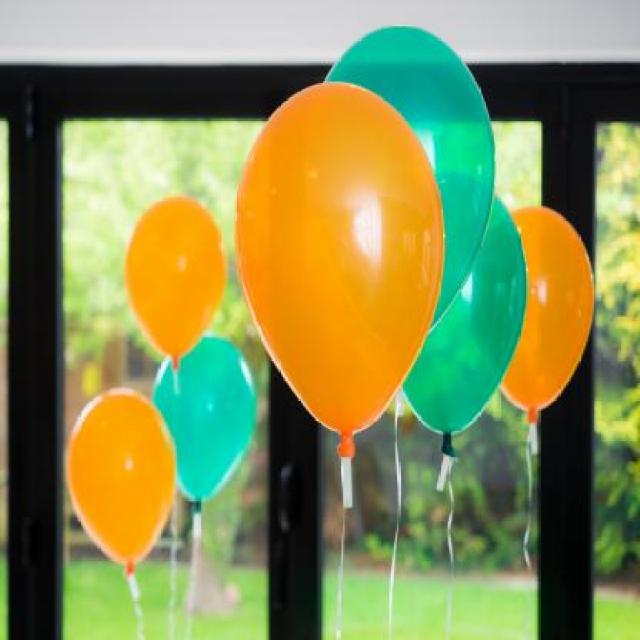balloon: (233, 79, 447, 458), (316, 18, 499, 340), (395, 166, 530, 445), (484, 199, 598, 423), (60, 384, 174, 578), (149, 334, 257, 508), (123, 187, 228, 365)
